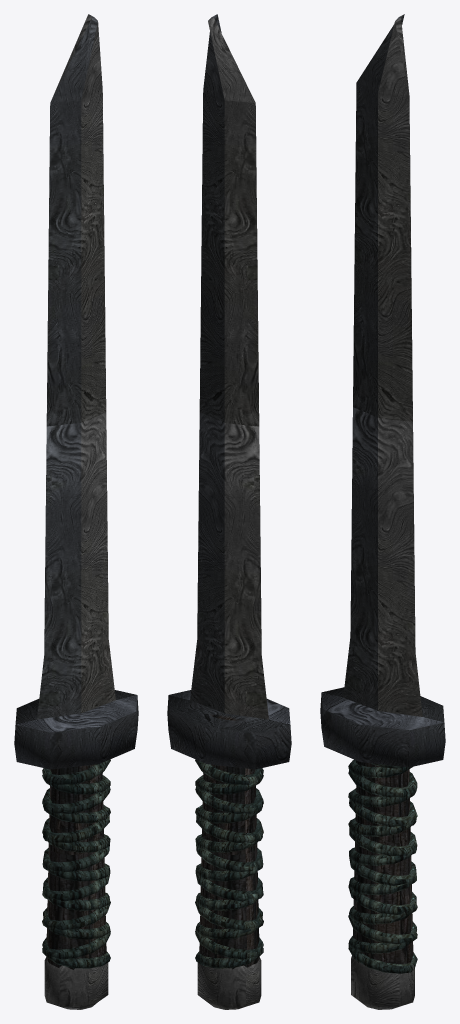
File: DuelWeapon_sunDeng.glb
3 views of the same model, side by side, from view 1: azimuth 30°, elevation 25°; view 2: azimuth 150°, elevation 25°; view 3: azimuth 330°, elevation 25° (orthographic).
Visible parts, largest first — view 1: SunDeng_Ninjato_R; view 2: SunDeng_Ninjato_R; view 3: SunDeng_Ninjato_R.
Boxes of the visible parts, x1,y1,x2,y2 form: SunDeng_Ninjato_R: [14, 14, 138, 1009]; SunDeng_Ninjato_R: [167, 14, 291, 1009]; SunDeng_Ninjato_R: [320, 14, 445, 1009].
Size of the model in its own units: 0.0956 by 0.72 by 0.0644.
5 materials, 5 textured.
